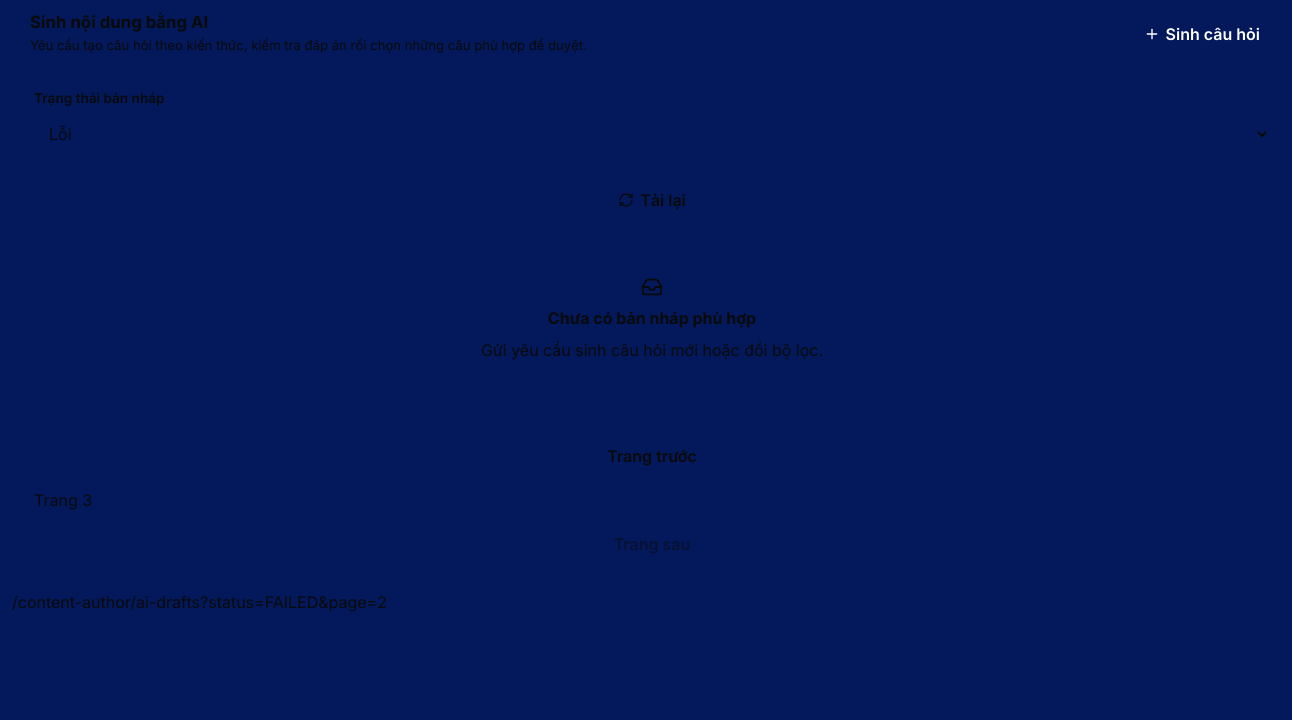
Test: AiDraftsPage › fetches only question drafts with the requested status and page
expect the text "Chưa có bản nháp phù hợp" is shown: met, box x1=548 y1=308 x2=756 y2=328
expect the text "Trang 3" is shown: met, box x1=34 y1=490 x2=92 y2=510
Select "Chờ duyệt" in the dropdown labelled "Trạng thái bản nháp" at [652, 134], box x1=34 y1=114 x2=1270 y2=154
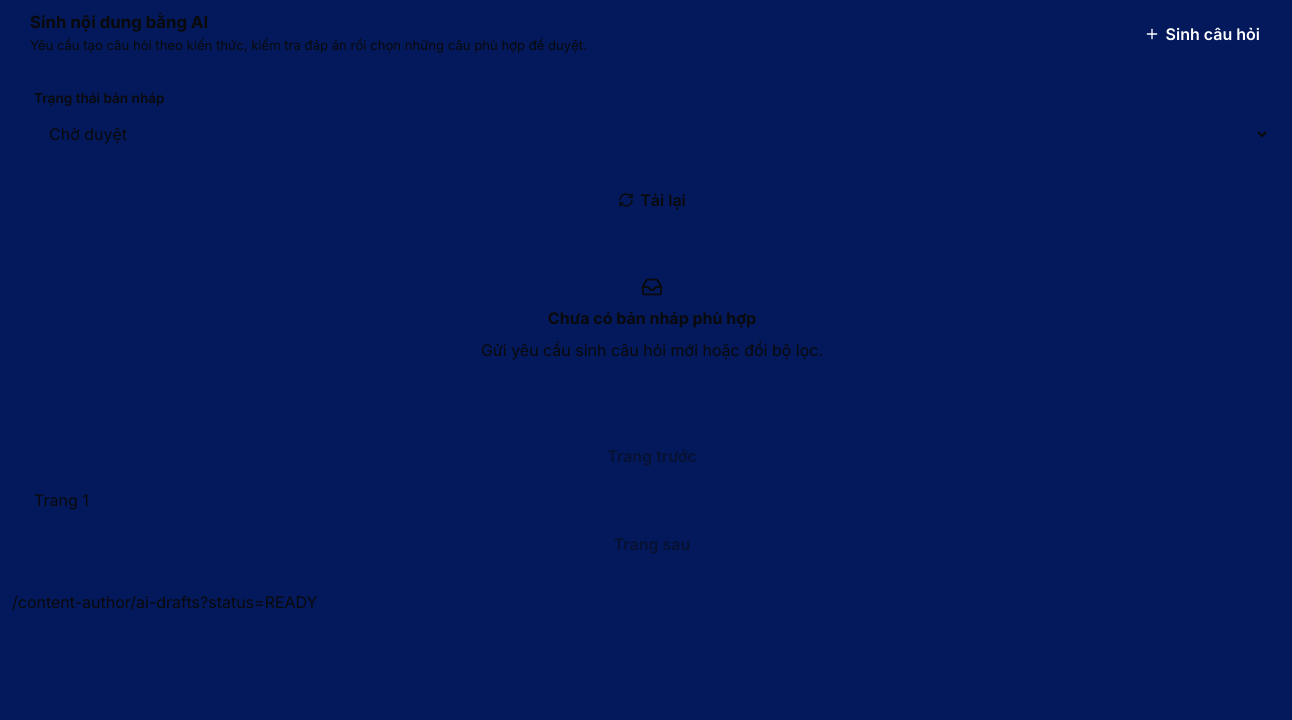
expect the text with test id "location" shows "?status=READY": met, box x1=200 y1=592 x2=318 y2=612
